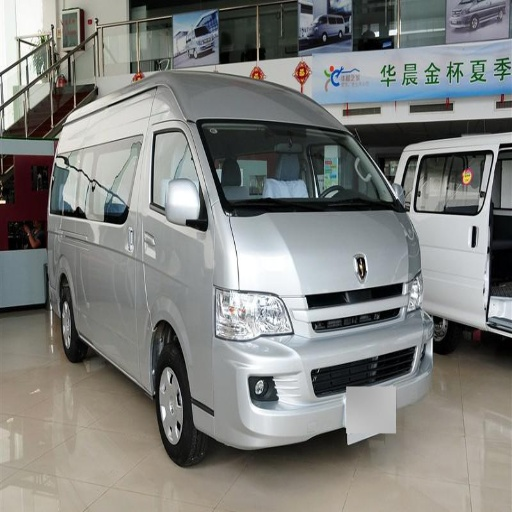front_bumper: (186, 282, 430, 449)
front_glass: (198, 122, 396, 214)
front_right_door: (100, 93, 210, 372)
front_right_light: (216, 288, 293, 341)
